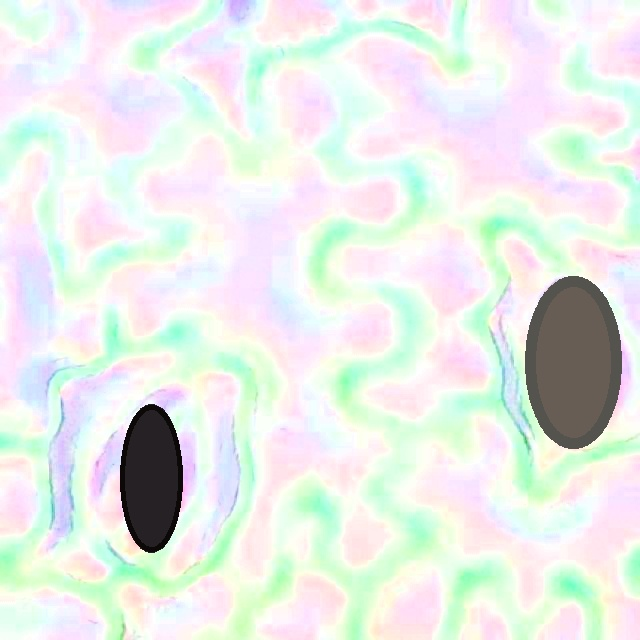open: (525, 276, 621, 449), (120, 403, 182, 552)
